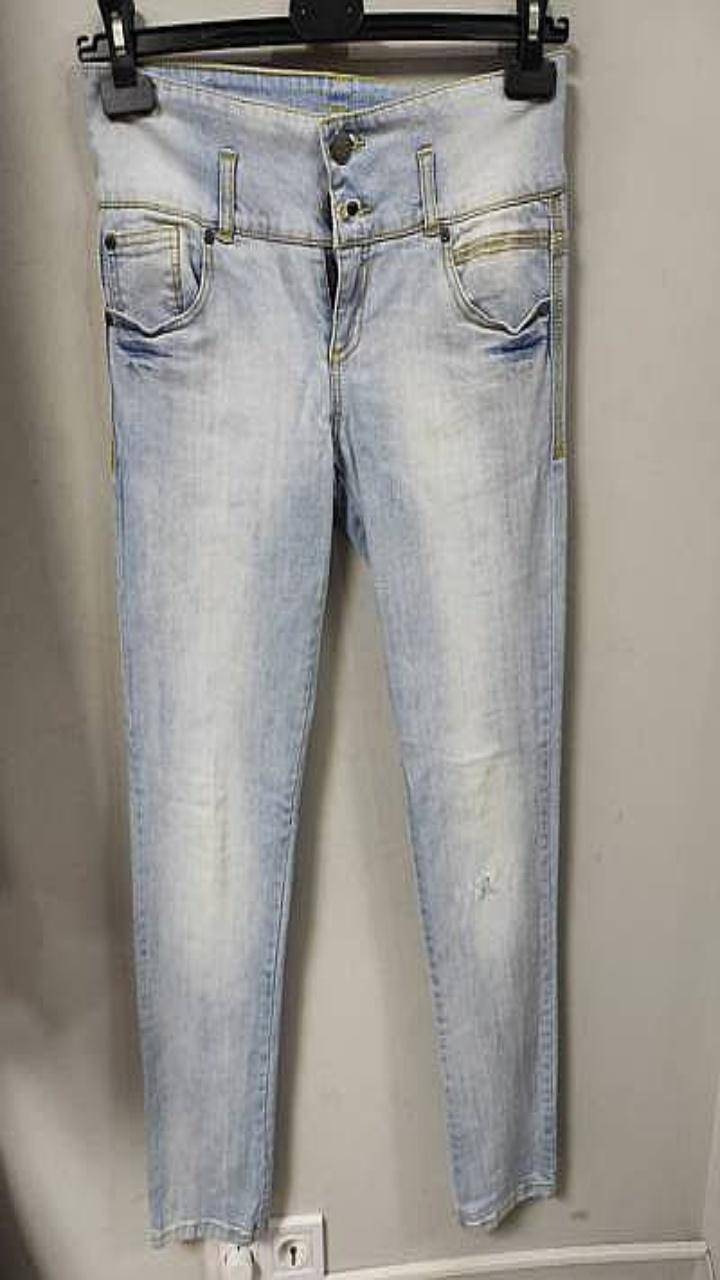Jeans: (82, 51, 567, 1245)
